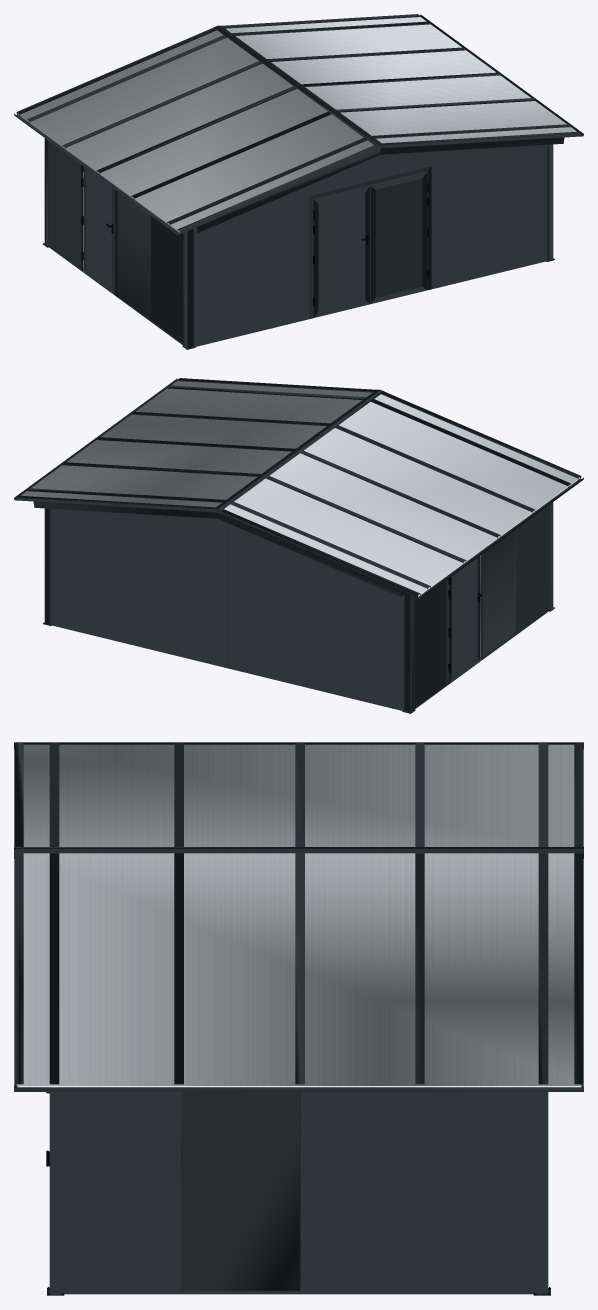
3 renders of one model, top to bottom at view 1: azimuth 30°, elevation 25°; view 2: azimuth 150°, elevation 25°; view 3: azimuth 270°, elevation 25°, orthographic. The views are drawn at different scales.
Parts seen in each view (by area): view 1: priximbattable_net_abris_de_voiture_640014_garage_polycarbon, folha_2, folha_3, folha, porta_dupla, porta; view 2: priximbattable_net_abris_de_voiture_640014_garage_polycarbon, folha, porta; view 3: priximbattable_net_abris_de_voiture_640014_garage_polycarbon.
Part boxes in pixels (<box>): priximbattable_net_abris_de_voiture_640014_garage_polycarbon: <box>14,14,583,349</box>; folha_2: <box>370,172,428,304</box>; folha_3: <box>313,185,370,317</box>; folha: <box>81,165,115,295</box>; porta_dupla: <box>309,166,431,319</box>; porta: <box>81,165,117,297</box>; priximbattable_net_abris_de_voiture_640014_garage_polycarbon: <box>14,378,583,713</box>; folha: <box>448,555,480,684</box>; porta: <box>446,553,482,685</box>; priximbattable_net_abris_de_voiture_640014_garage_polycarbon: <box>14,742,583,1295</box>.
Size of the model in its own units: 689 by 270 by 480.
Materials: 1 (1 with a texture image).
